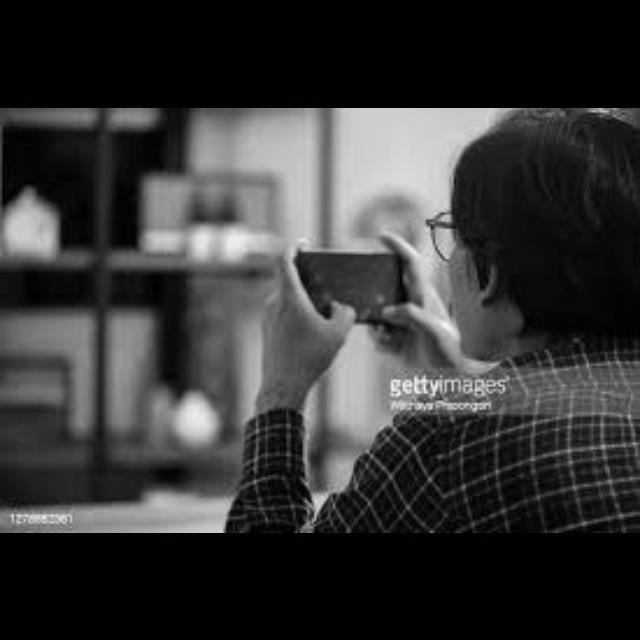fake: (257, 208, 441, 351)
